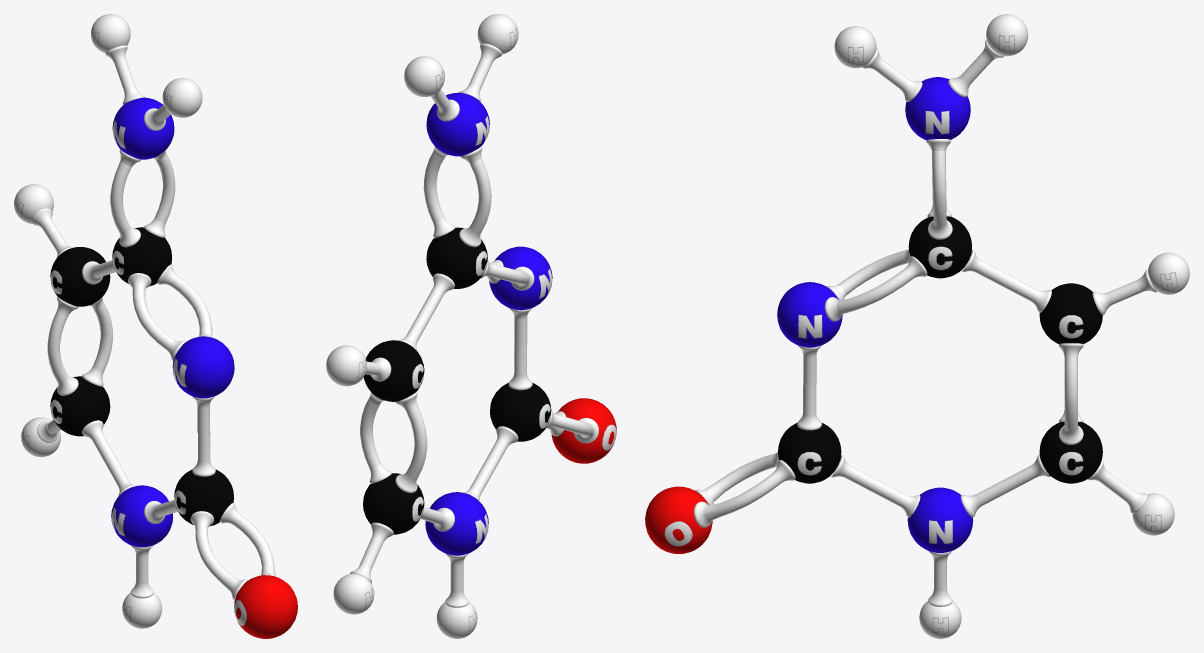
The model's file is cytosine_molecule__dnarna_base_3d_model.glb.
The picture shows the model from 3 angles, left to right: view 1: azimuth 30°, elevation 25°; view 2: azimuth 150°, elevation 25°; view 3: azimuth 270°, elevation 25°; orthographic projection. The views are drawn at different scales.
Visible parts, largest first — view 1: Oksijen_Atomu_Yuksek_Detay017, Azot_Atomu_Yuksek_Detay024, Azot_Atomu_Yuksek_Detay023, Azot_Atomu_Yuksek_Detay025, Karbon_Atomu_Yuksek_Detay028, Karbon_Atomu_Yuksek_Detay027, Karbon_Atomu_Yuksek_Detay026, Karbon_Atomu_Yuksek_Detay029, Karbon_Atomu_cift_Bag_Yuksek_Detay019, Karbon_Atomu_cift_Bag_Yuksek_Detay023, Karbon_Atomu_cift_Bag_Yuksek_Detay022, Karbon_Atomu_cift_Bag_Yuksek_Detay018 (+19 smaller); view 2: Azot_Atomu_Yuksek_Detay025, Azot_Atomu_Yuksek_Detay023, Karbon_Atomu_Yuksek_Detay026, Oksijen_Atomu_Yuksek_Detay017, Karbon_Atomu_Yuksek_Detay027, Karbon_Atomu_Yuksek_Detay028, Karbon_Atomu_Yuksek_Detay029, Azot_Atomu_Yuksek_Detay024, Karbon_Atomu_cift_Bag_Yuksek_Detay023, Karbon_Atomu_cift_Bag_Yuksek_Detay019, Hidrojen_Atomu_Yuksek_Detay022, Hidrojen_Atomu_Yuksek_Detay025 (+21 smaller); view 3: Oksijen_Atomu_Yuksek_Detay017, Azot_Atomu_Yuksek_Detay023, Azot_Atomu_Yuksek_Detay024, Azot_Atomu_Yuksek_Detay025, Karbon_Atomu_Yuksek_Detay028, Karbon_Atomu_Yuksek_Detay026, Karbon_Atomu_Yuksek_Detay027, Karbon_Atomu_Yuksek_Detay029, Oksijen_Atomu_Cift_Bag_Yuksek_Detay008, Azot_Atomu_Cift_Bag_Yuksek_Detay007, Hidrojen_Atomu_Yuksek_Detay025, Hidrojen_Atomu_Yuksek_Detay023 (+9 smaller).
Boxes of the visible parts, x1,y1,x2,y2 form: Oksijen_Atomu_Yuksek_Detay017: (234,575,297,638); Azot_Atomu_Yuksek_Detay024: (172,336,234,398); Azot_Atomu_Yuksek_Detay023: (111,485,173,547); Azot_Atomu_Yuksek_Detay025: (112,97,174,159); Karbon_Atomu_Yuksek_Detay028: (50,247,110,306); Karbon_Atomu_Yuksek_Detay027: (50,376,110,436); Karbon_Atomu_Yuksek_Detay026: (174,469,233,526); Karbon_Atomu_Yuksek_Detay029: (112,227,171,286); Karbon_Atomu_cift_Bag_Yuksek_Detay019: (47,336,112,395); Karbon_Atomu_cift_Bag_Yuksek_Detay023: (110,187,175,247); Karbon_Atomu_cift_Bag_Yuksek_Detay022: (190,503,266,560); Karbon_Atomu_cift_Bag_Yuksek_Detay018: (128,264,203,321); Azot_Atomu_Yuksek_Detay025: (426,92,489,156); Azot_Atomu_Yuksek_Detay023: (425,492,488,555); Karbon_Atomu_Yuksek_Detay026: (490,382,551,441); Oksijen_Atomu_Yuksek_Detay017: (551,398,616,463); Karbon_Atomu_Yuksek_Detay027: (363,473,424,534); Karbon_Atomu_Yuksek_Detay028: (363,340,424,401); Karbon_Atomu_Yuksek_Detay029: (426,227,487,288); Azot_Atomu_Yuksek_Detay024: (489,246,552,310); Karbon_Atomu_cift_Bag_Yuksek_Detay023: (423,186,491,247); Karbon_Atomu_cift_Bag_Yuksek_Detay019: (360,431,427,493); Hidrojen_Atomu_Yuksek_Detay022: (333,573,374,614); Hidrojen_Atomu_Yuksek_Detay025: (404,56,444,96); Oksijen_Atomu_Yuksek_Detay017: (645,486,712,553); Azot_Atomu_Yuksek_Detay023: (907,487,973,552); Azot_Atomu_Yuksek_Detay024: (777,282,842,347); Azot_Atomu_Yuksek_Detay025: (905,77,970,140); Karbon_Atomu_Yuksek_Detay028: (1039,283,1102,343); Karbon_Atomu_Yuksek_Detay026: (778,422,841,483); Karbon_Atomu_Yuksek_Detay027: (1039,422,1102,483); Karbon_Atomu_Yuksek_Detay029: (908,216,971,278); Oksijen_Atomu_Cift_Bag_Yuksek_Detay008: (693,467,746,527); Azot_Atomu_Cift_Bag_Yuksek_Detay007: (824,263,878,321); Hidrojen_Atomu_Yuksek_Detay025: (986,14,1028,56); Hidrojen_Atomu_Yuksek_Detay023: (834,26,876,68).
Size of the model in its own units: 0.037 by 0.3239 by 0.2575.
Materials: 5 (4 with a texture image).
